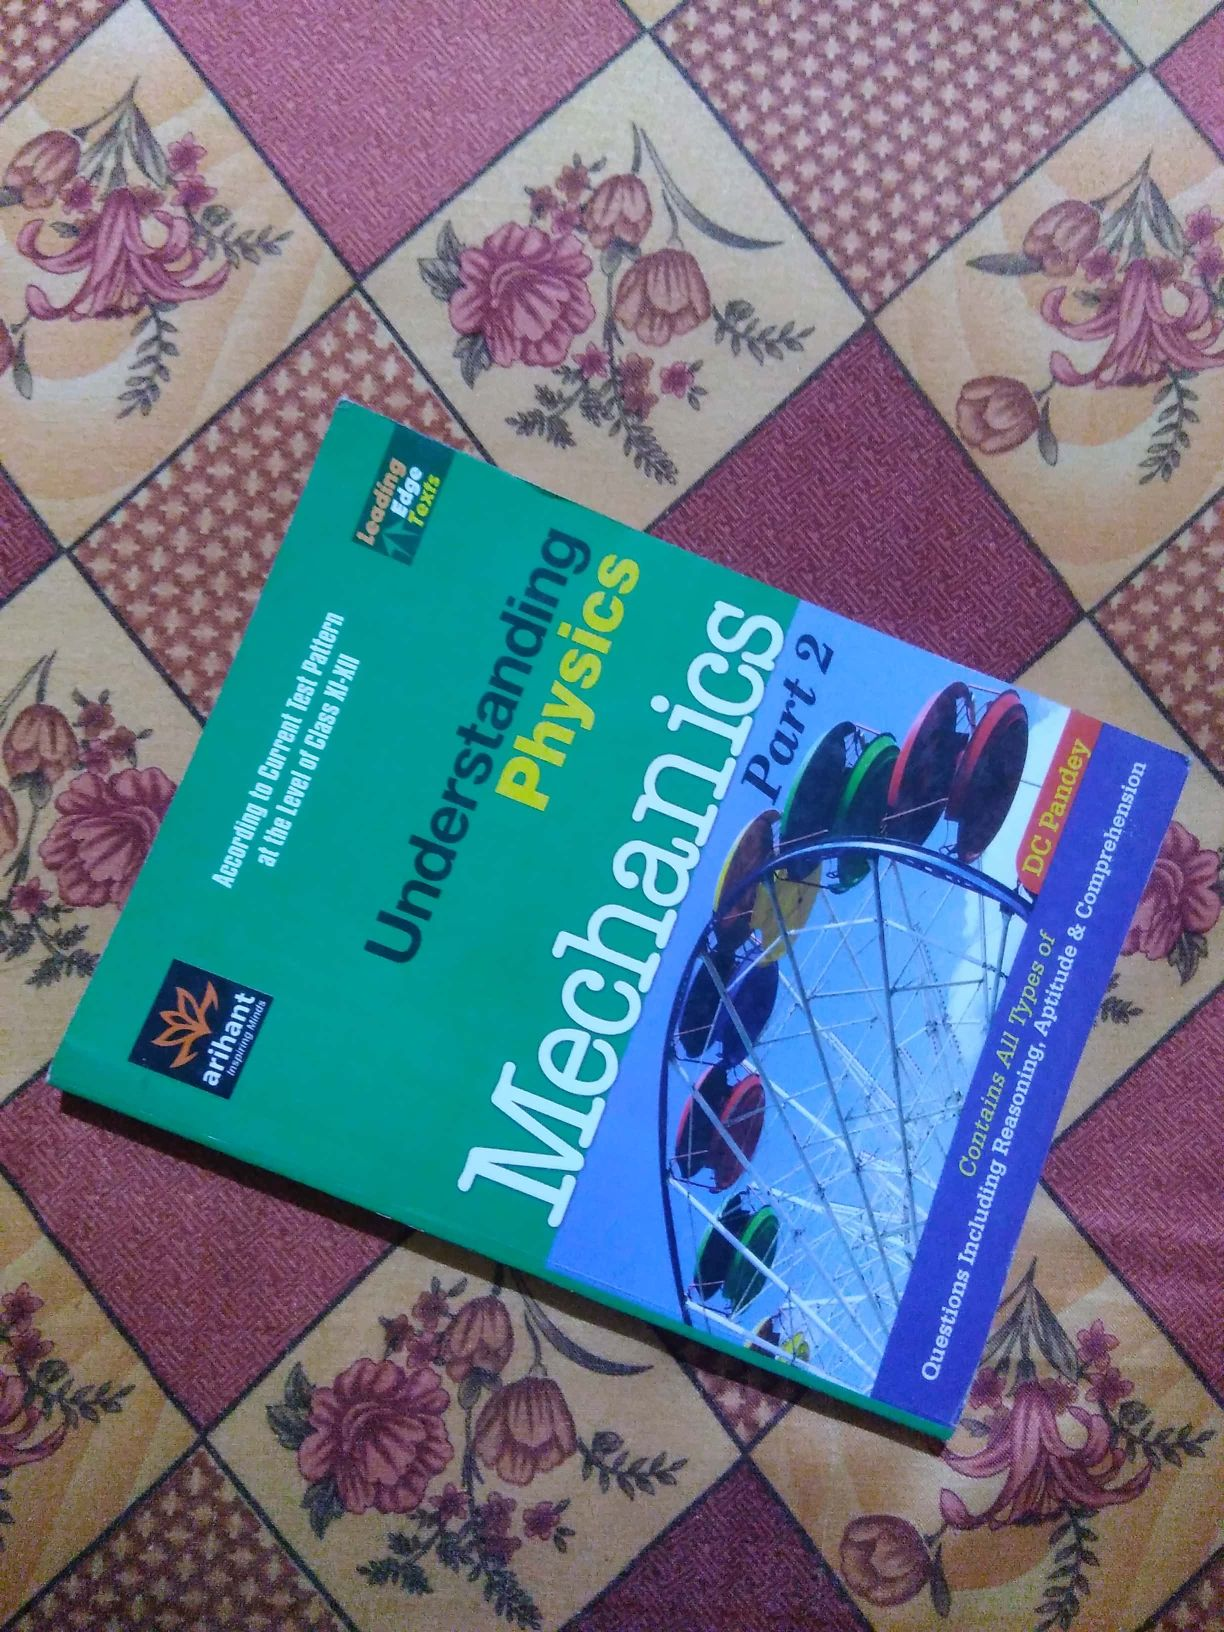mechanics: (87, 371, 1187, 1446)
